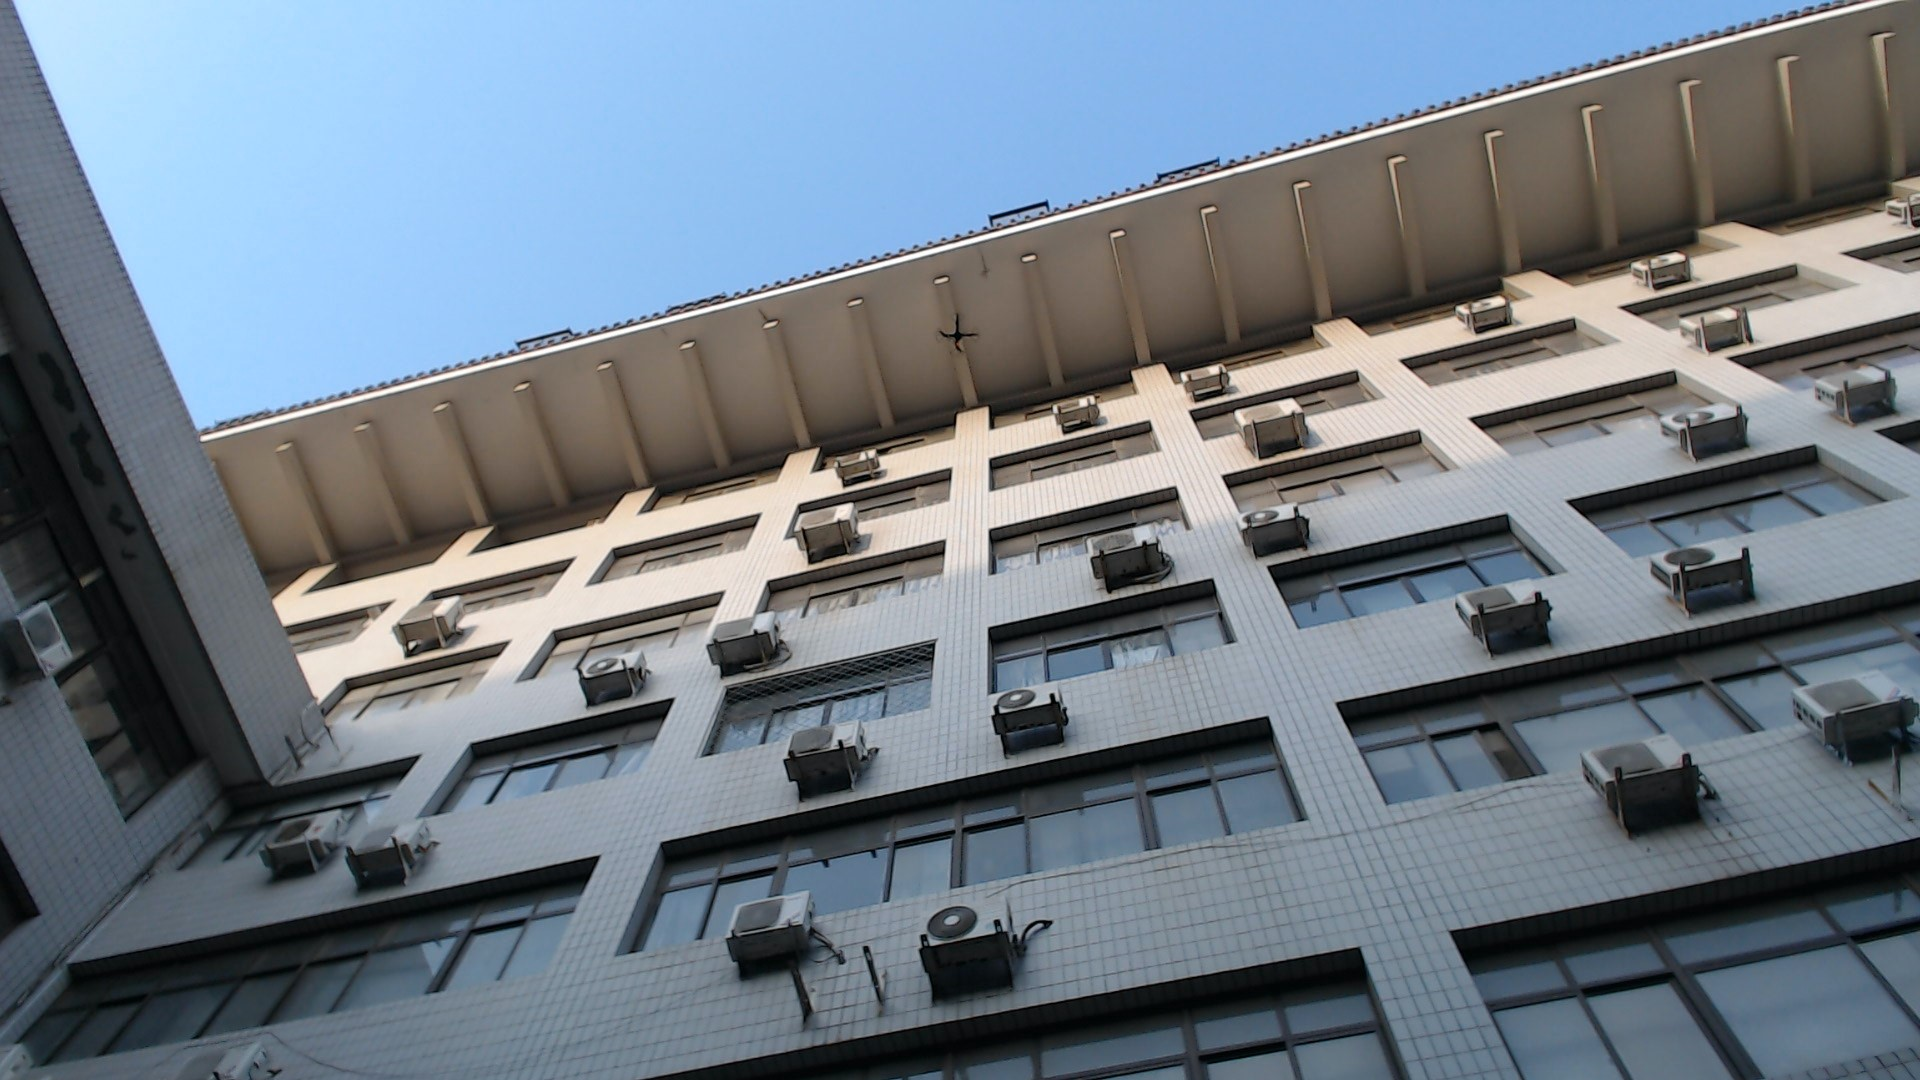drone: (920, 303, 994, 357)
